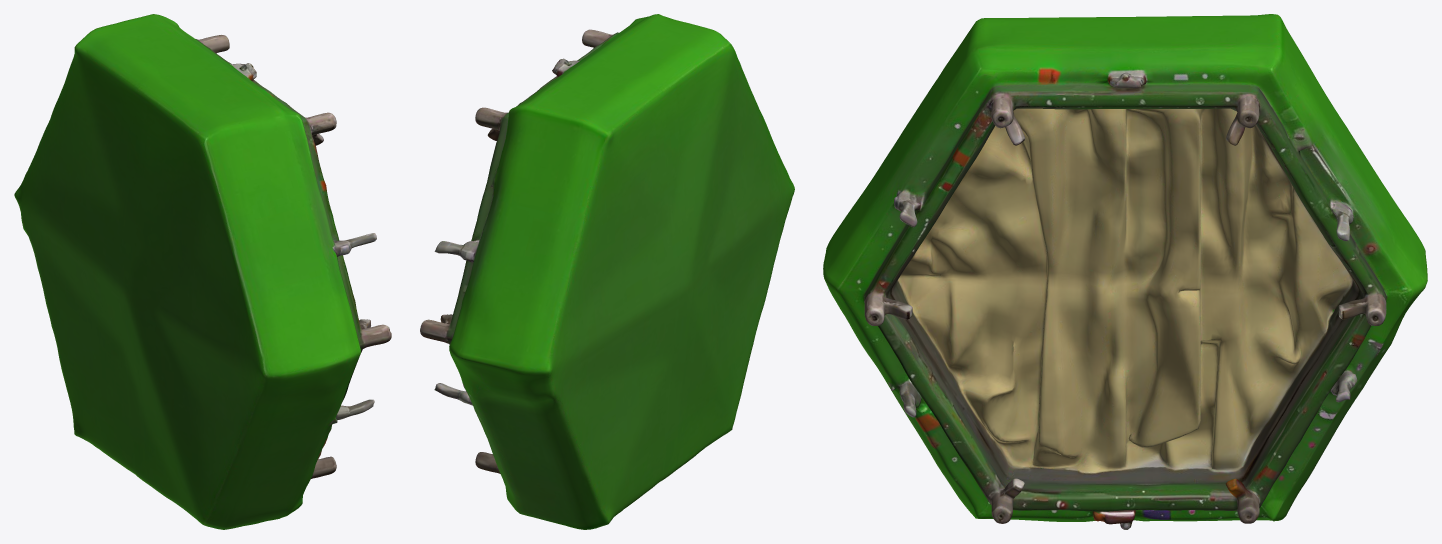
The model's file is item_filter.glb.
3 renders of one model, left to right at view 1: azimuth 30°, elevation 25°; view 2: azimuth 150°, elevation 25°; view 3: azimuth 270°, elevation 25°, orthographic. The views are drawn at different scales.
Visible parts, largest first — view 1: tripo_node_1ae09601-d590-4498-b7e7-8b5369e51882; view 2: tripo_node_1ae09601-d590-4498-b7e7-8b5369e51882; view 3: tripo_node_1ae09601-d590-4498-b7e7-8b5369e51882.
Part boxes in pixels (bbox=[...]): tripo_node_1ae09601-d590-4498-b7e7-8b5369e51882: bbox=[14, 14, 391, 529]; tripo_node_1ae09601-d590-4498-b7e7-8b5369e51882: bbox=[420, 14, 794, 529]; tripo_node_1ae09601-d590-4498-b7e7-8b5369e51882: bbox=[823, 14, 1427, 529].
Size of the model in its own units: 0.3353 by 0.8459 by 0.9779.
1 material, 1 textured.
